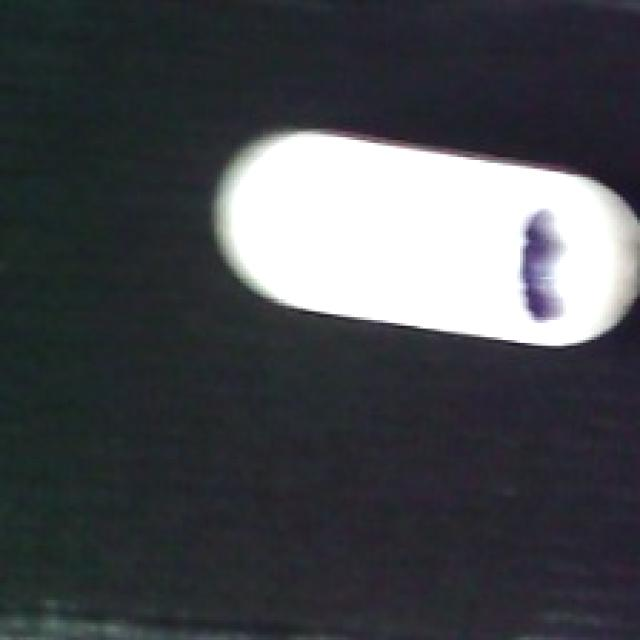defected: (206, 123, 640, 346)
